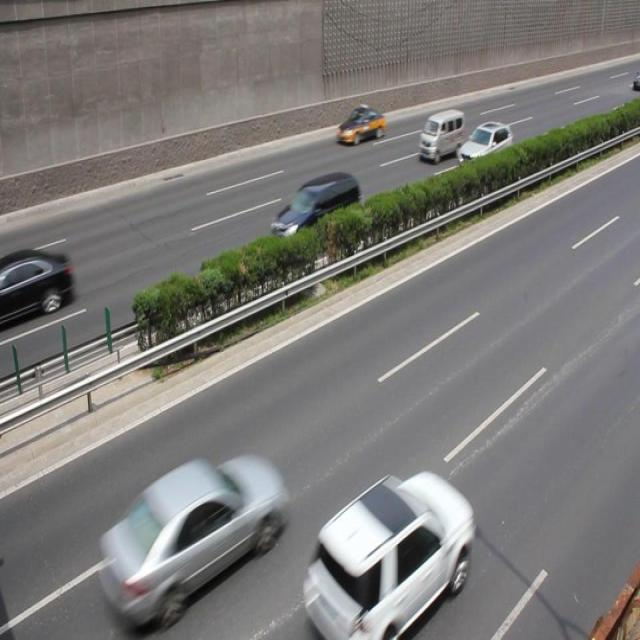car: (106, 453, 285, 610), (304, 473, 471, 640), (270, 168, 361, 262), (0, 249, 74, 326), (455, 121, 512, 176), (336, 105, 385, 147)
truck: (418, 108, 463, 162)
